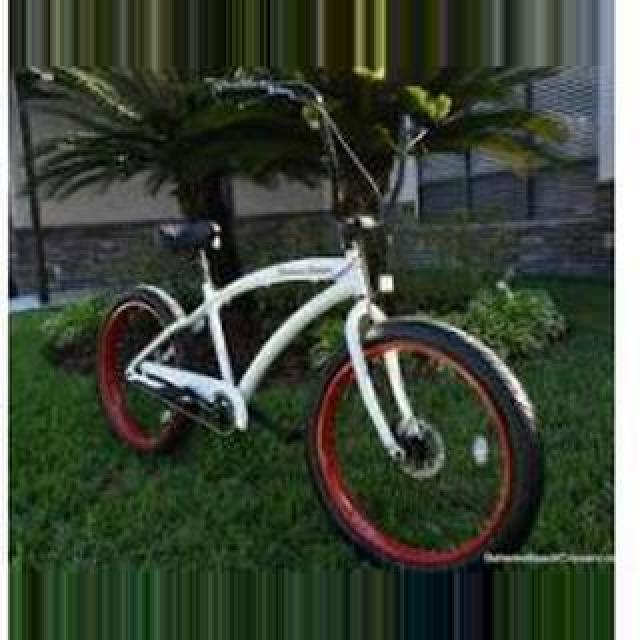Person: (93, 75, 549, 567)
